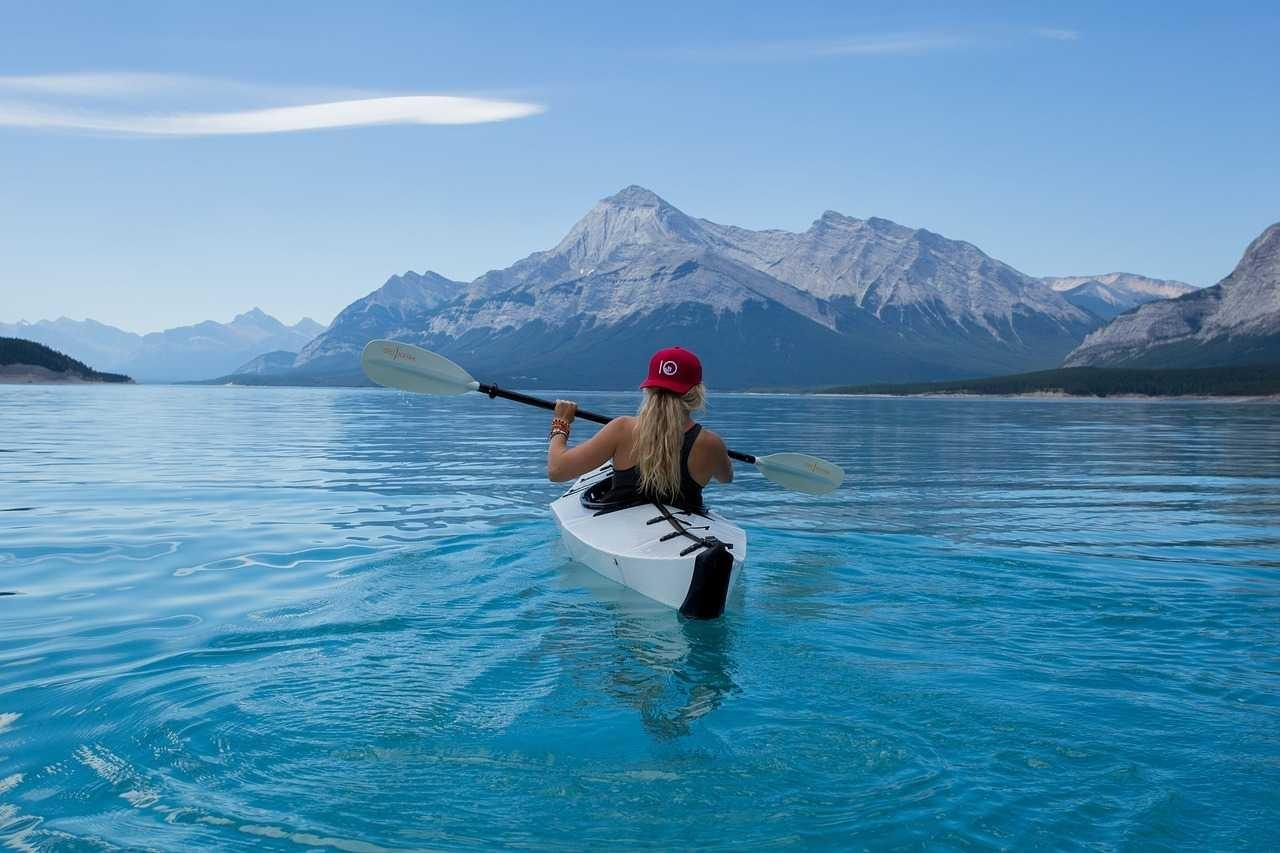kayak: (547, 469, 747, 621)
